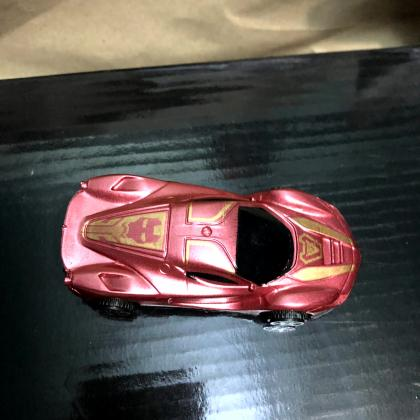Car: (60, 174, 362, 327)
